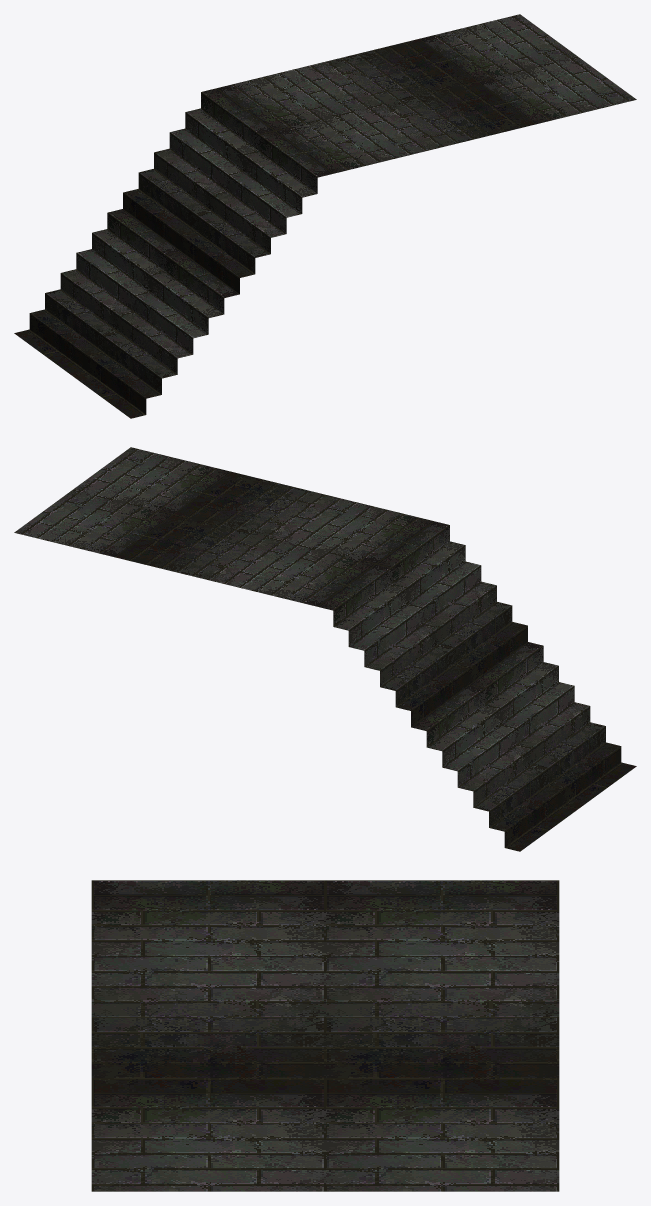
The model's file is Stairs.glb.
3 renders of one model, top to bottom at view 1: azimuth 30°, elevation 25°; view 2: azimuth 150°, elevation 25°; view 3: azimuth 270°, elevation 25°, orthographic. The views are drawn at different scales.
Visible parts, largest first — view 1: Stairs; view 2: Stairs; view 3: Stairs.
Boxes of the visible parts, x1,y1,x2,y2 form: Stairs: (14,14,636,418); Stairs: (14,447,636,851); Stairs: (91,880,559,1191).
Bounding box in the file's own units: 10 × 3.69 × 4.
1 material, 1 textured.
